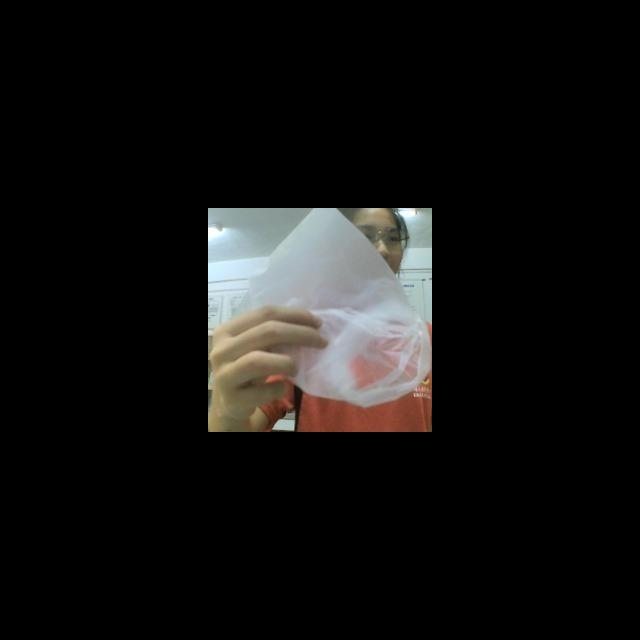plastic: (228, 208, 432, 410)
